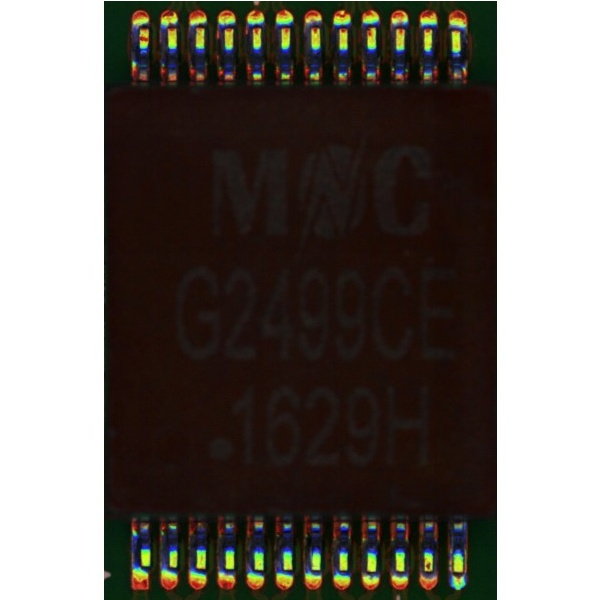Bad_qiaojiao: (447, 538, 452, 572), (462, 542, 467, 572)
